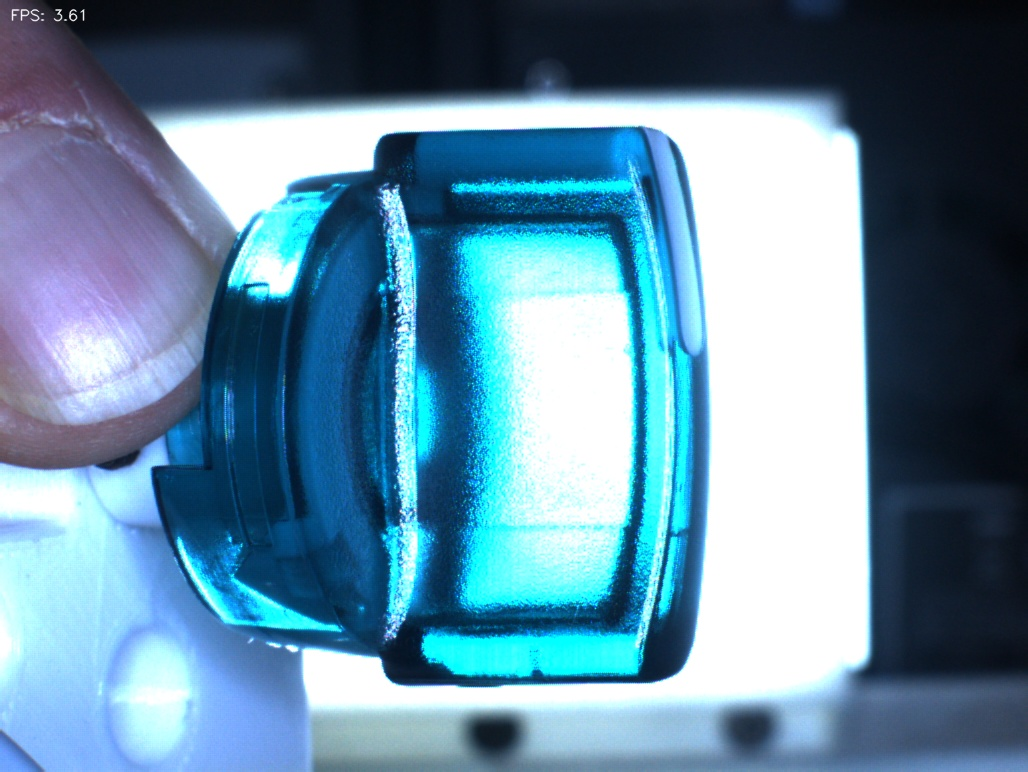Bulle: (494, 639, 583, 722)
